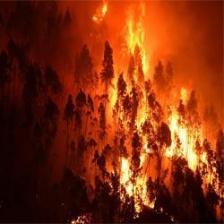fire: (110, 27, 214, 206)
